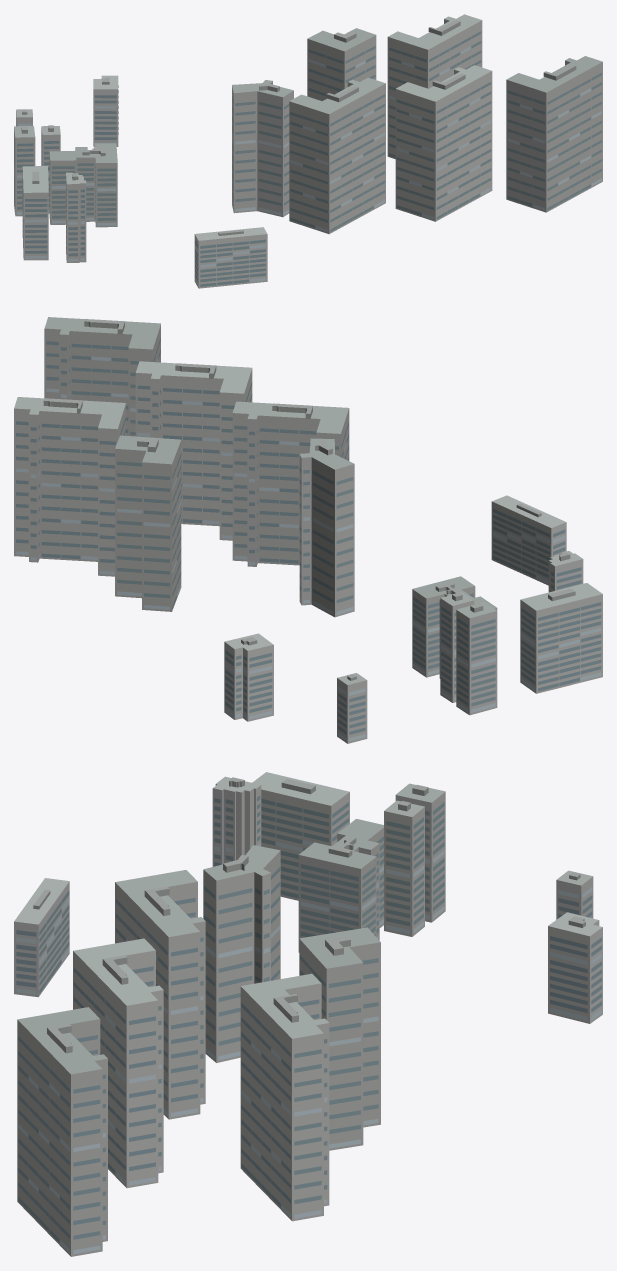
File: apt-a10025310.glb
3 renders of one model, top to bottom at view 1: azimuth 30°, elevation 25°; view 2: azimuth 150°, elevation 25°; view 3: azimuth 270°, elevation 25°, orthographic. The views are drawn at different scales.
Visible parts, largest first — view 1: apt-a10025310; view 2: apt-a10025310; view 3: apt-a10025310.
Boxes of the visible parts, <box> form: apt-a10025310: <box>14,14,602,288</box>; apt-a10025310: <box>14,317,602,743</box>; apt-a10025310: <box>14,772,602,1256</box>.
Bounding box in the file's own units: 313 × 72 × 204.
